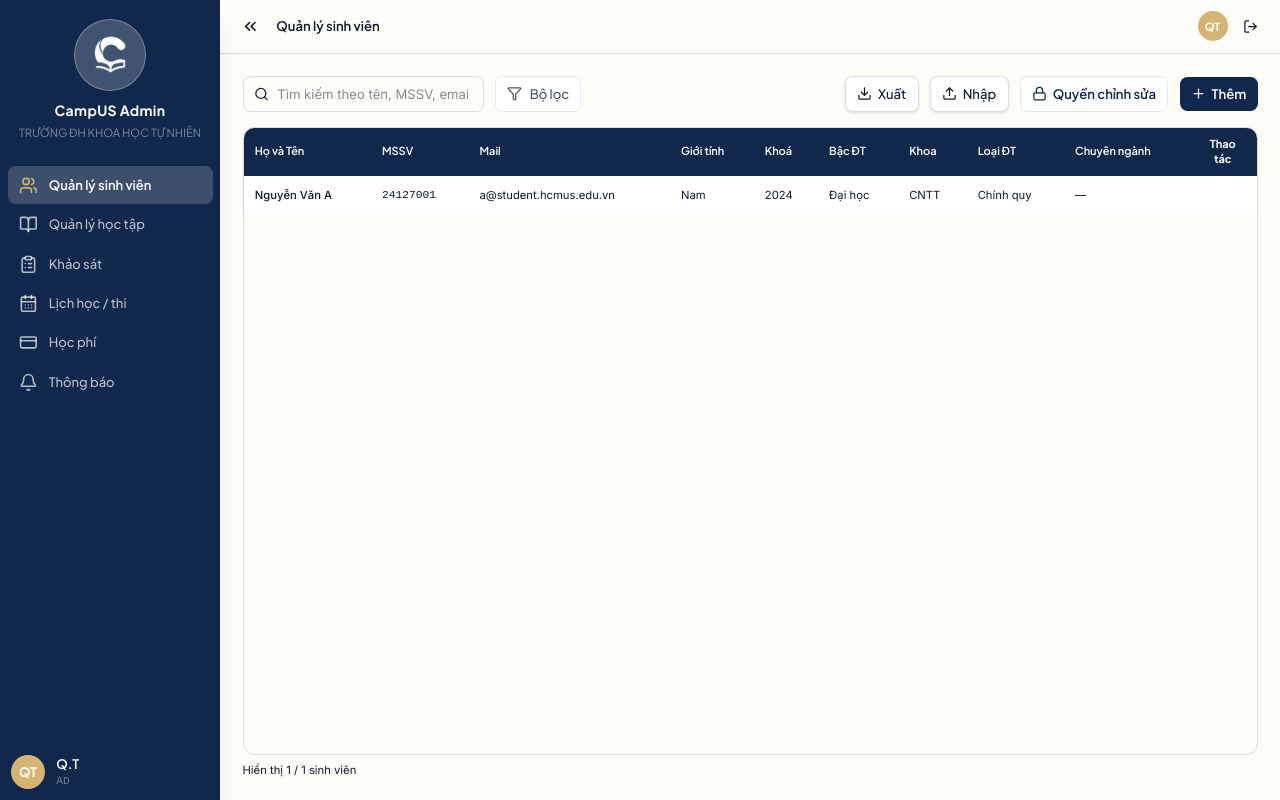
Test: Unit Test: Manage Profile Update Periods (UC 2.17) › [TC_2.17_03 & 04]: Verify date inputs, summary banner, and active green dot indicator
This screenshot has width=1280, height=800.
# Mở panel
Click the button "Quyền chỉnh sửa": click(1094, 94) x1=1020 y1=76 x2=1168 y2=112
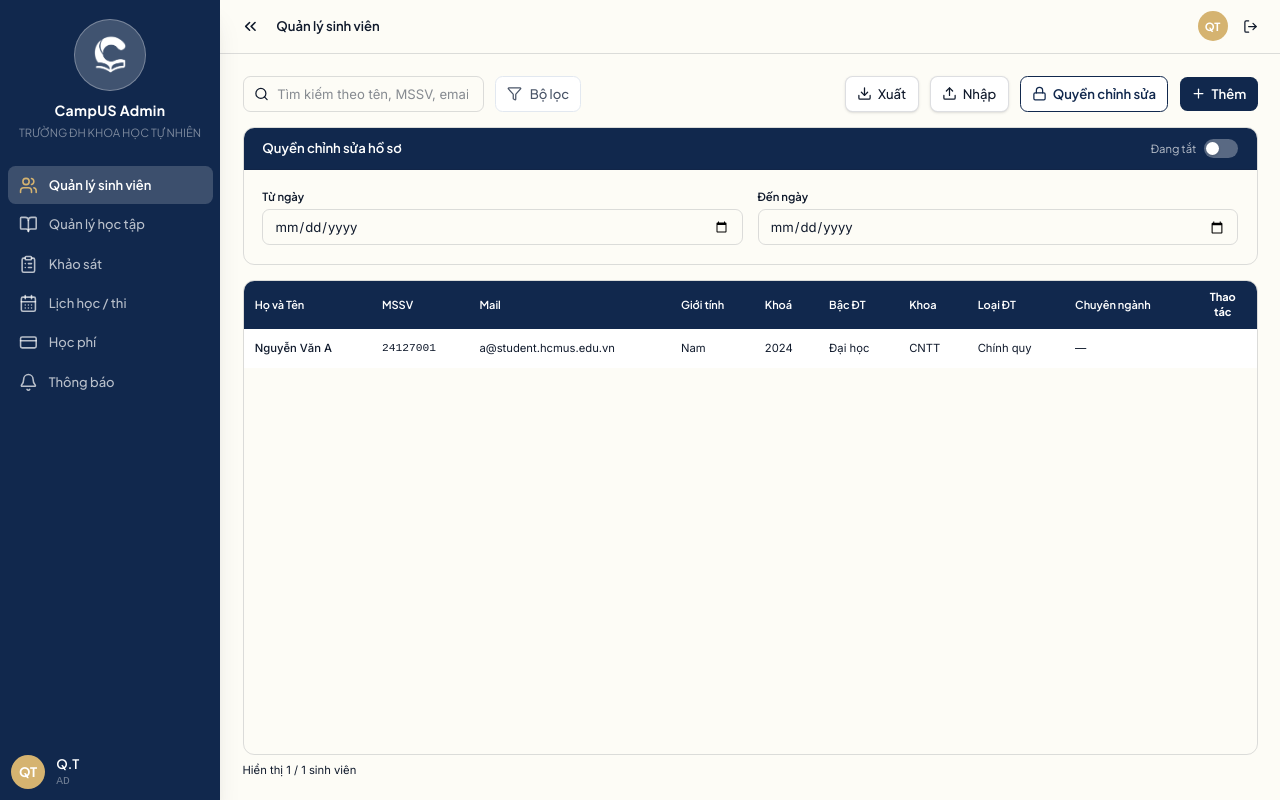
# Bật công tắc
Click the button without text next to "Đang tắt": click(1221, 148) x1=1204 y1=139 x2=1238 y2=158
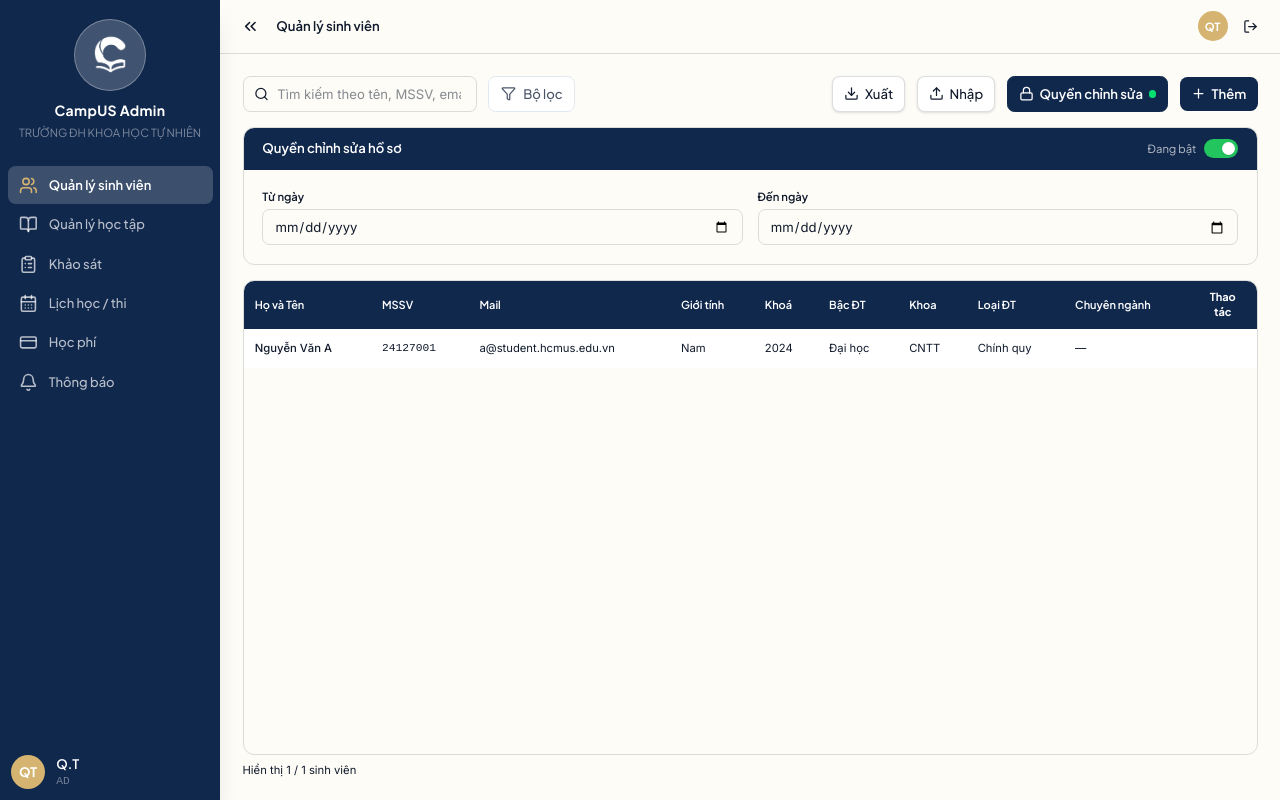
In the date field below "Từ ngày": (502, 227) x1=262 y1=209 x2=743 y2=245, type "2020-01-01"
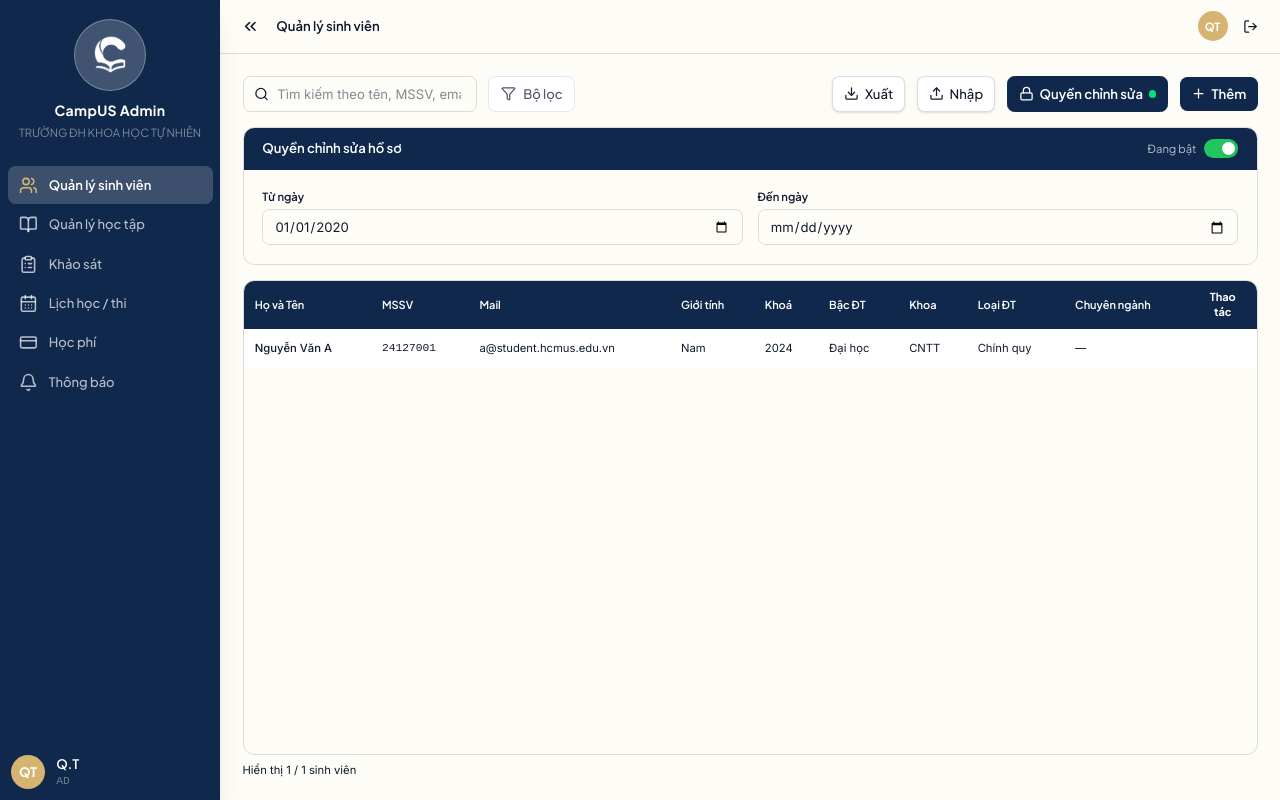
In the date field below "Đến ngày": (998, 227) x1=758 y1=209 x2=1238 y2=245, type "2030-12-31"
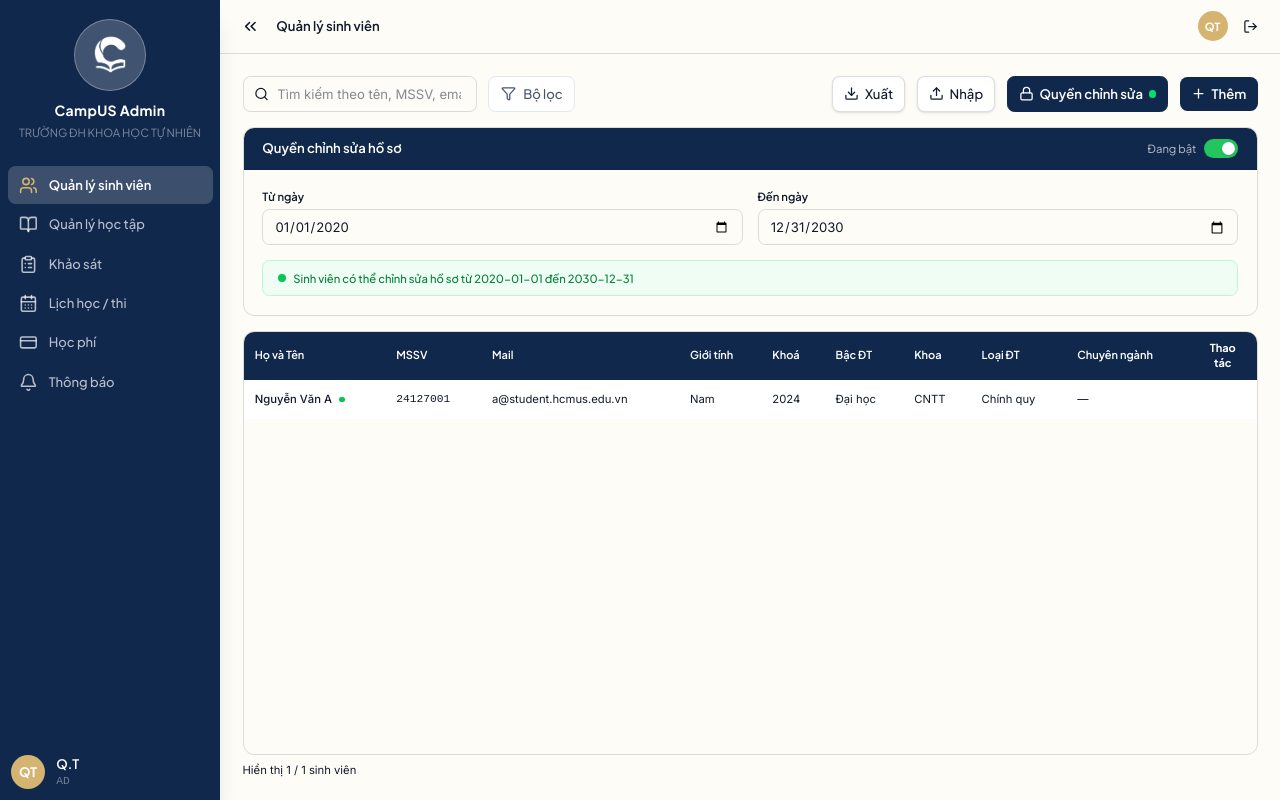
Check: the text "Sinh viên có thể chỉnh sửa hồ sơ từ 2020-01-01 đến 2030-12-31" is shown, box x1=262 y1=260 x2=1238 y2=296
Check: the element titled "Đang trong đợt chỉnh sửa" is shown, box x1=340 y1=397 x2=345 y2=402
